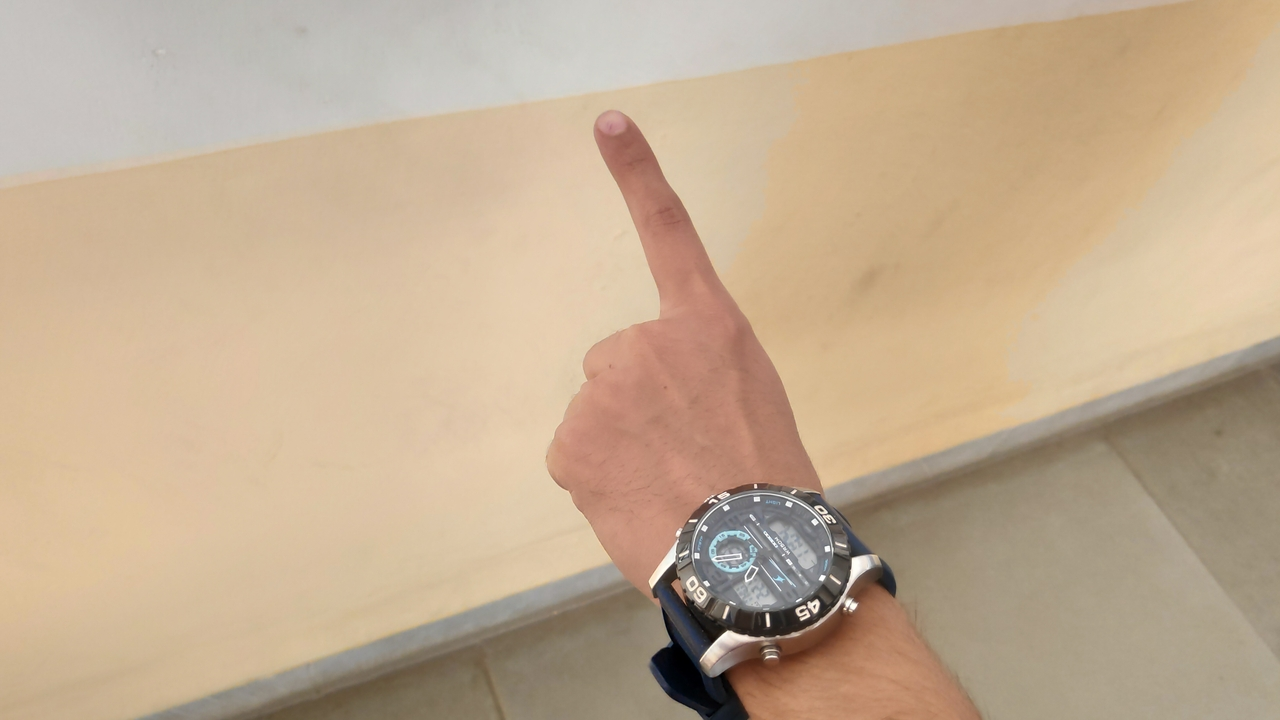fingertip: (582, 102, 654, 156)
